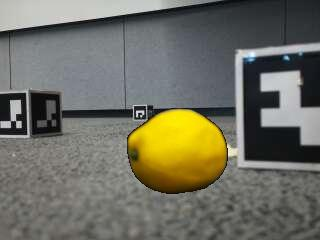lemon: (129, 110, 227, 194)
